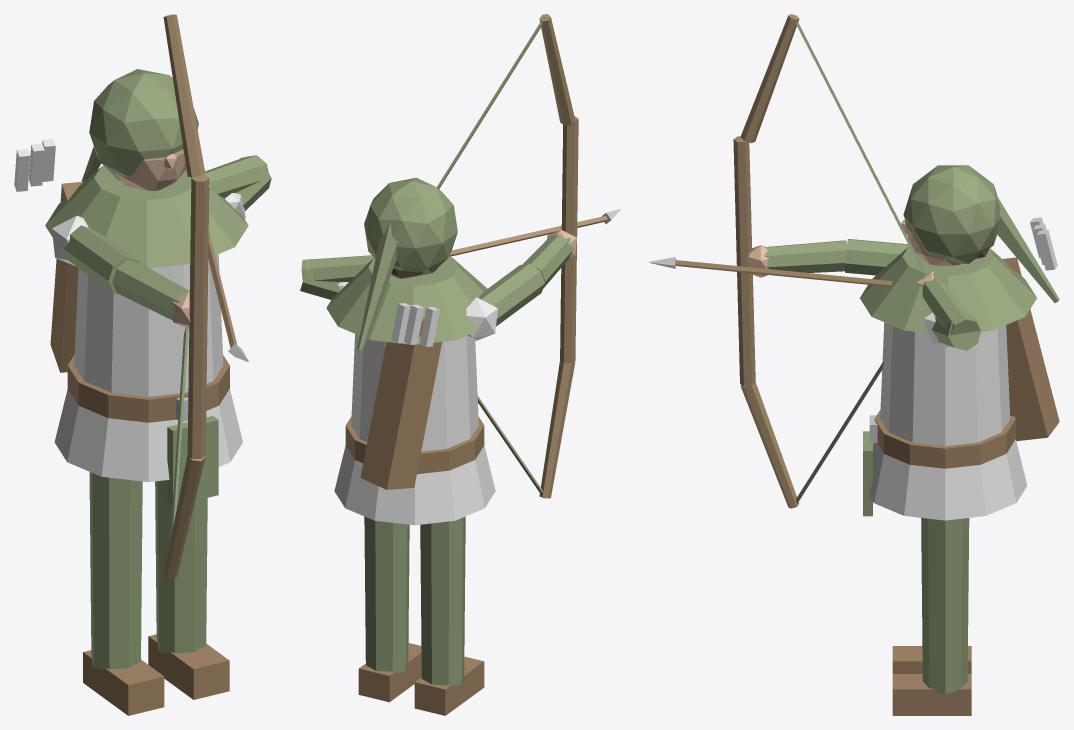
File: civ_unit_longbowman.glb
3 views of the same model, side by side, from view 1: azimuth 30°, elevation 25°; view 2: azimuth 150°, elevation 25°; view 3: azimuth 270°, elevation 25° (orthographic). The views are drawn at different scales.
Parts seen in each view (by area): view 1: civ_unit_longbowman; view 2: civ_unit_longbowman; view 3: civ_unit_longbowman.
Part boxes in pixels (box(x1,y1,x2,y2)): civ_unit_longbowman: box(14, 14, 271, 715); civ_unit_longbowman: box(300, 14, 620, 715); civ_unit_longbowman: box(649, 14, 1059, 715).
Bounding box in the file's own units: 0.6793 × 2.19 × 1.25.
